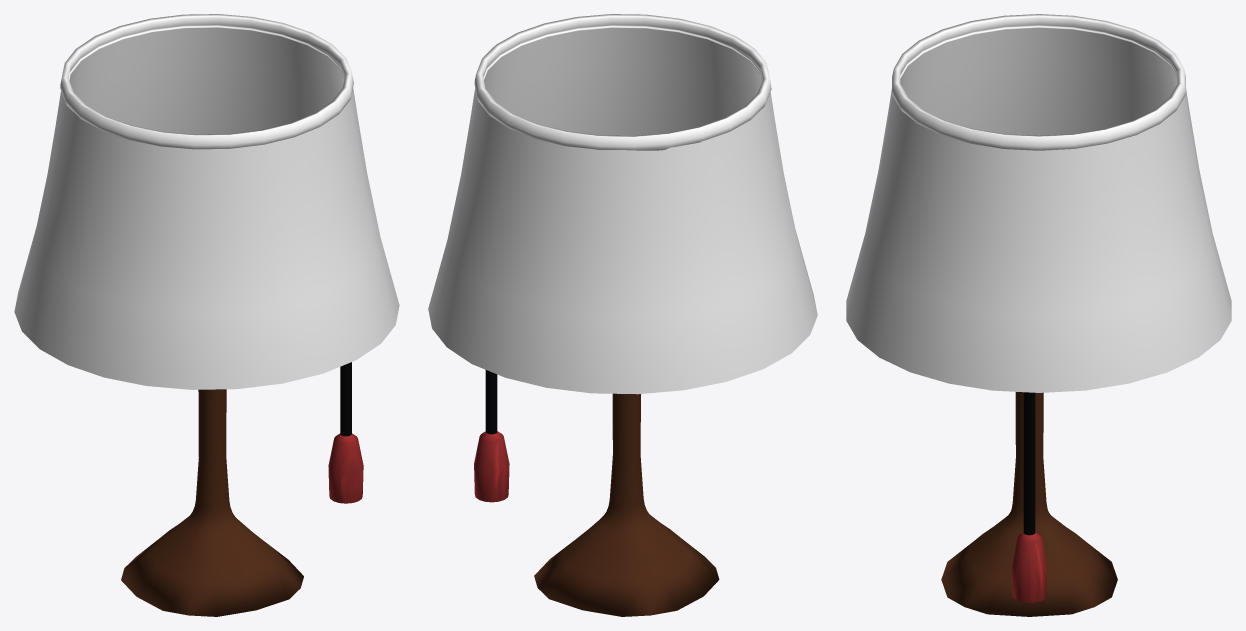
File: taiden.fbx
3 renders of one model, left to right at view 1: azimuth 30°, elevation 25°; view 2: azimuth 150°, elevation 25°; view 3: azimuth 270°, elevation 25°, orthographic.
Parts seen in each view (by area): view 1: taideng; view 2: taideng; view 3: taideng.
Part boxes in pixels (left/top/right/bottom): taideng: left=14, top=14, right=399, bottom=616; taideng: left=428, top=14, right=817, bottom=616; taideng: left=846, top=14, right=1231, bottom=616.
Size of the model in its own units: 35.42 by 50.68 by 35.16.
